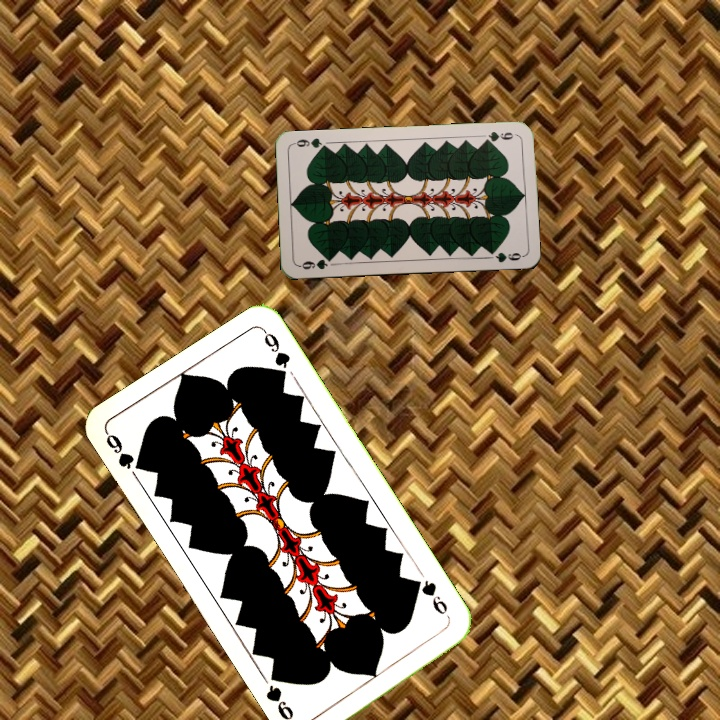G9: (101, 428, 149, 474), (409, 575, 450, 618), (295, 253, 336, 272), (479, 127, 519, 145)
